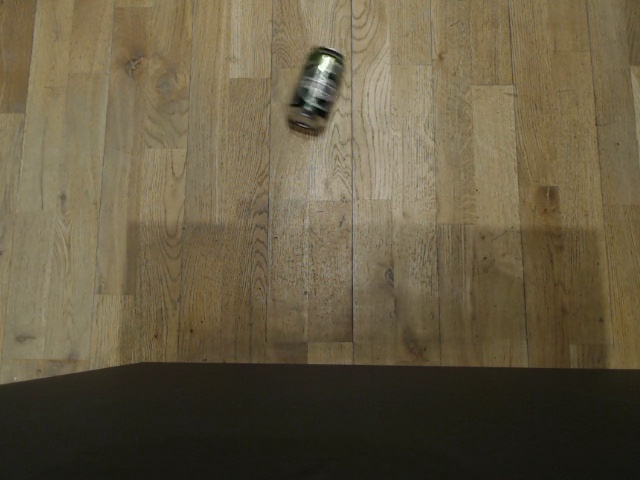beer: (284, 43, 346, 133)
